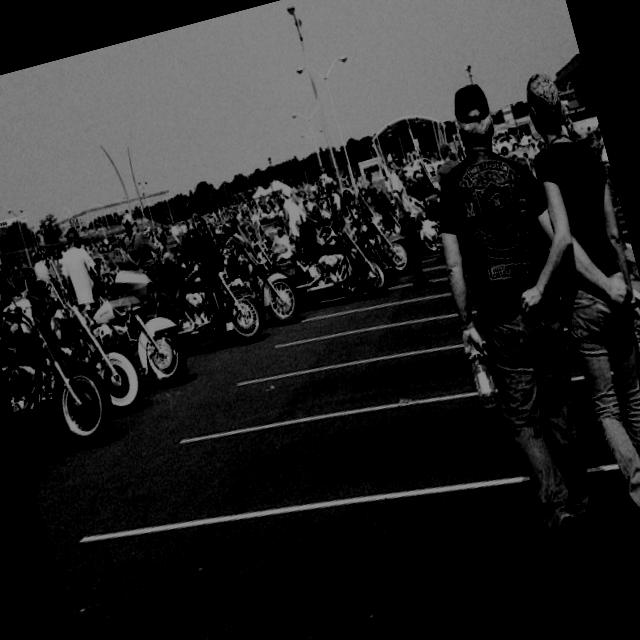Vehicle: (0, 244, 121, 464), (29, 232, 149, 426), (129, 212, 269, 364), (258, 184, 394, 321), (76, 260, 194, 402), (353, 187, 451, 290), (218, 222, 304, 336), (349, 184, 416, 282), (341, 186, 369, 237)
